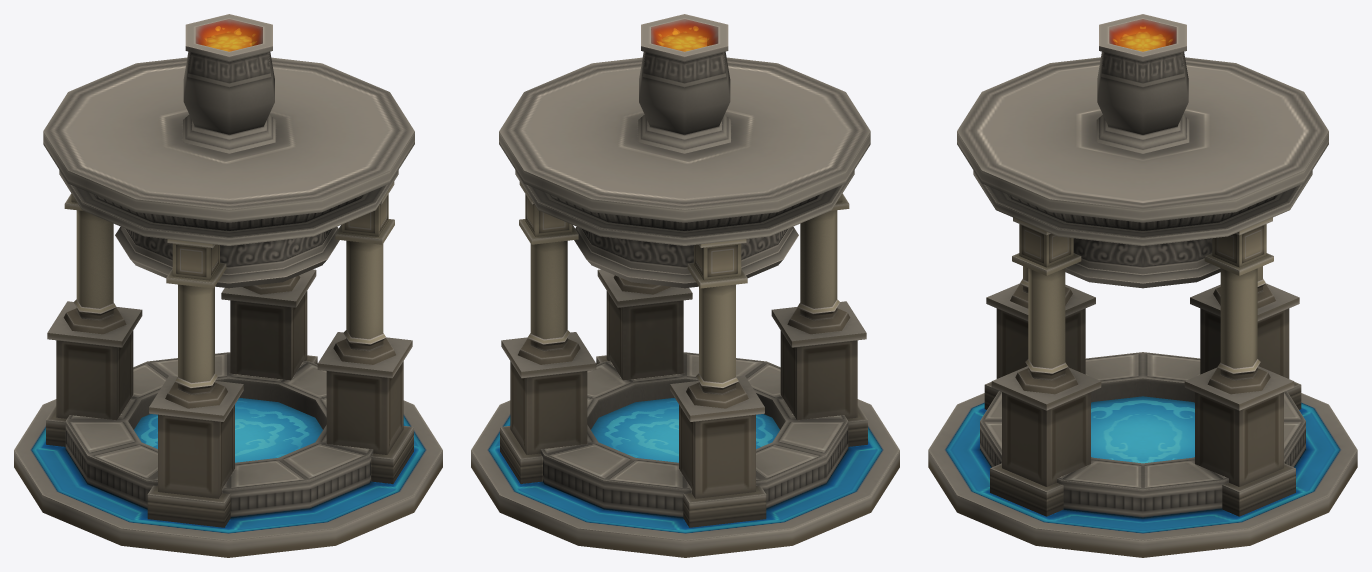
Rendered from Portal_03.FBX.
3 renders of one model, left to right at view 1: azimuth 30°, elevation 25°; view 2: azimuth 150°, elevation 25°; view 3: azimuth 270°, elevation 25°, orthographic.
Parts seen in each view (by area): view 1: Portal_03; view 2: Portal_03; view 3: Portal_03.
Boxes of the visible parts, left/top/right/bottom form: Portal_03: left=14, top=14, right=442, bottom=557; Portal_03: left=471, top=14, right=899, bottom=557; Portal_03: left=928, top=14, right=1357, bottom=557.
Bounding box in the file's own units: 113 × 125 × 113.
